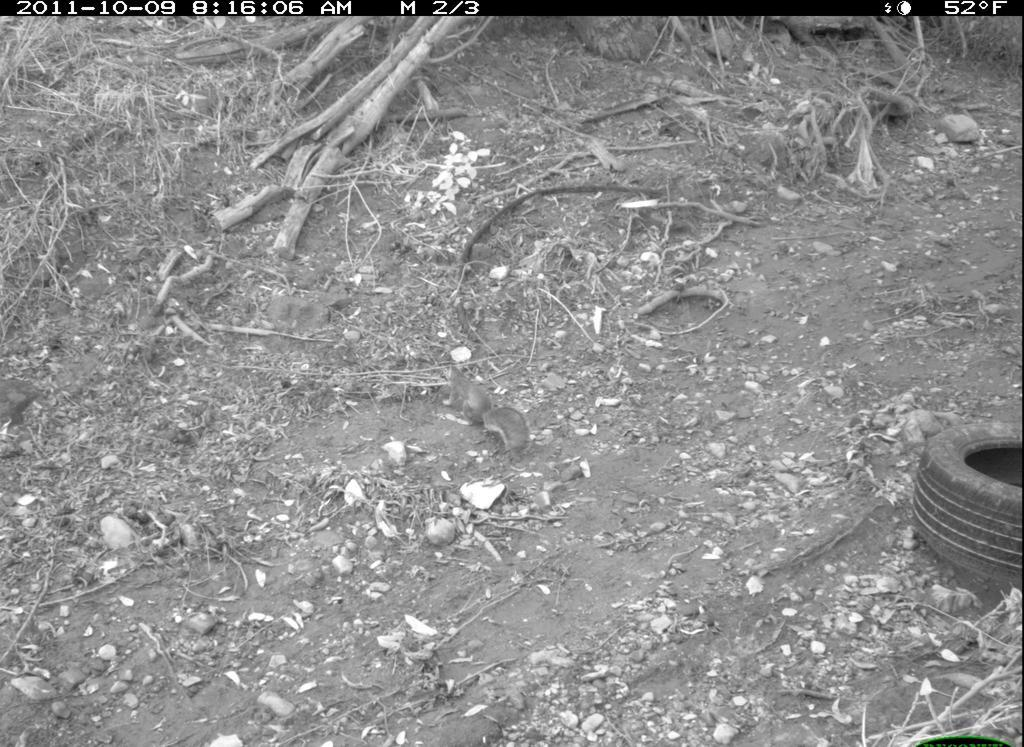squirrel: (432, 359, 534, 457)
